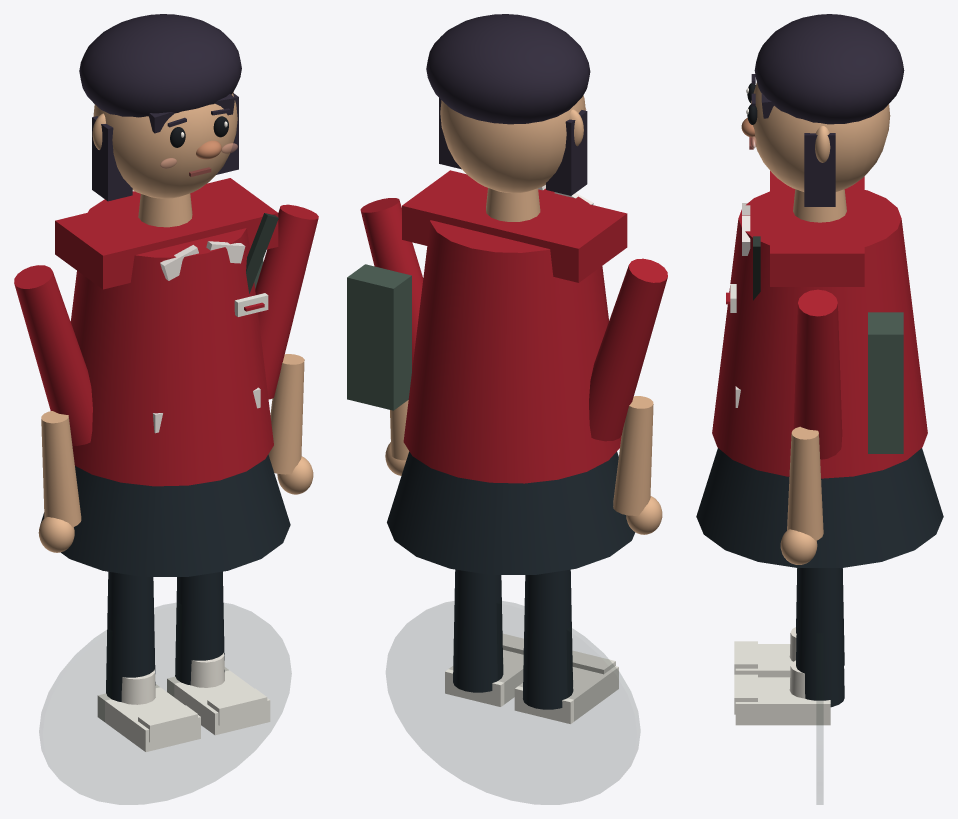
File: player_female_red.glb
3 views of the same model, side by side, from view 1: azimuth 30°, elevation 25°; view 2: azimuth 150°, elevation 25°; view 3: azimuth 270°, elevation 25° (orthographic). The views are drawn at different scales.
Parts seen in each view (by area): view 1: torso, contact_shadow, skirt, hair_cap, shoulder_line, head, upper_arm_-0.235, upper_arm_0.235, leg_-0.075, leg_0.075, forearm_-0.235, forearm_0.235 (+12 smaller); view 2: torso, contact_shadow, skirt, hair_cap, shoulder_line, shoulder_bag, upper_arm_-0.235, head, leg_-0.075, leg_0.075, forearm_-0.235, upper_arm_0.235 (+7 smaller); view 3: torso, skirt, hair_cap, shoulder_line, upper_arm_0.235, head, leg_0.075, shoulder_bag, forearm_0.235, shoe_0.075, side_hair_0.115, shoe_-0.075 (+7 smaller).
Part boxes in pixels (left/top/right/bottom): torso: left=70, top=191, right=273, bottom=486; contact_shadow: left=39, top=603, right=291, bottom=804; skirt: left=40, top=454, right=290, bottom=576; hair_cap: left=79, top=14, right=241, bottom=117; shoulder_line: left=55, top=178, right=278, bottom=289; head: left=93, top=93, right=237, bottom=198; upper_arm_-0.235: left=14, top=265, right=92, bottom=445; upper_arm_0.235: left=255, top=204, right=318, bottom=399; leg_-0.075: left=106, top=571, right=155, bottom=701; leg_0.075: left=175, top=571, right=224, bottom=685; forearm_-0.235: left=41, top=411, right=81, bottom=527; forearm_0.235: left=268, top=354, right=304, bottom=474; torso: left=403, top=188, right=621, bottom=483; contact_shadow: left=386, top=601, right=639, bottom=804; skirt: left=387, top=451, right=635, bottom=574; hair_cap: left=426, top=14, right=590, bottom=124; shoulder_line: left=402, top=170, right=627, bottom=282; shoulder_bag: left=347, top=264, right=411, bottom=410; upper_arm_-0.235: left=589, top=258, right=667, bottom=441; head: left=440, top=95, right=585, bottom=193; leg_-0.075: left=523, top=569, right=573, bottom=709; leg_0.075: left=453, top=569, right=503, bottom=692; forearm_-0.235: left=613, top=396, right=653, bottom=515; upper_arm_0.235: left=360, top=198, right=423, bottom=370; torso: left=712, top=190, right=927, bottom=478; skirt: left=696, top=448, right=943, bottom=567; hair_cap: left=754, top=14, right=904, bottom=124; shoulder_line: left=770, top=171, right=864, bottom=286; upper_arm_0.235: left=793, top=289, right=842, bottom=459; head: left=751, top=82, right=890, bottom=191; leg_0.075: left=796, top=568, right=844, bottom=707; shoulder_bag: left=868, top=312, right=903, bottom=453; forearm_0.235: left=787, top=426, right=823, bottom=540; shoe_0.075: left=735, top=677, right=830, bottom=725; side_hair_0.115: left=804, top=133, right=835, bottom=206; shoe_-0.075: left=735, top=644, right=792, bottom=677.
Size of the model in its own units: 0.636 by 1.56 by 0.4606.
